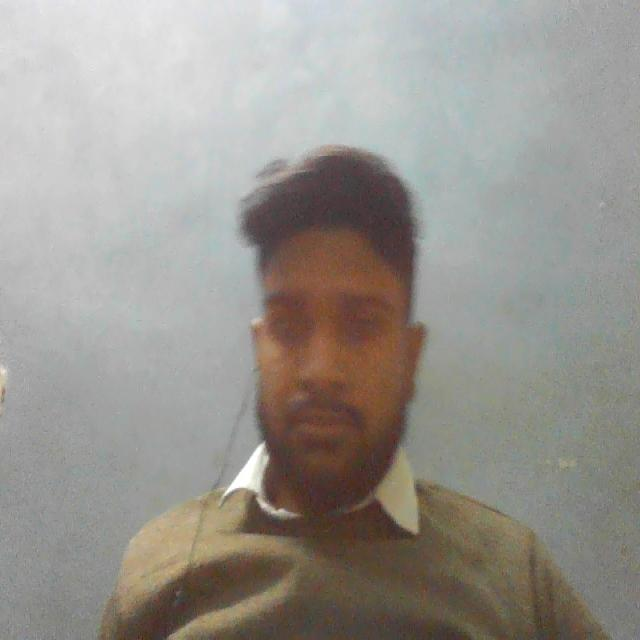real: (239, 133, 437, 507)
